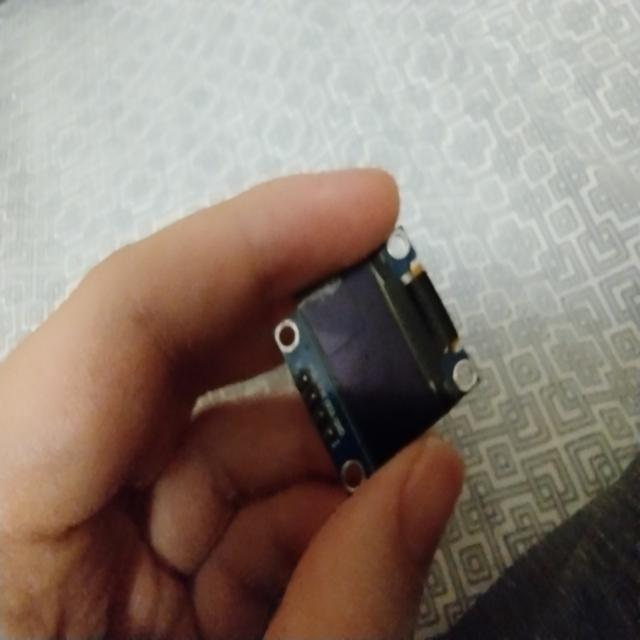oled: (271, 219, 486, 502)
